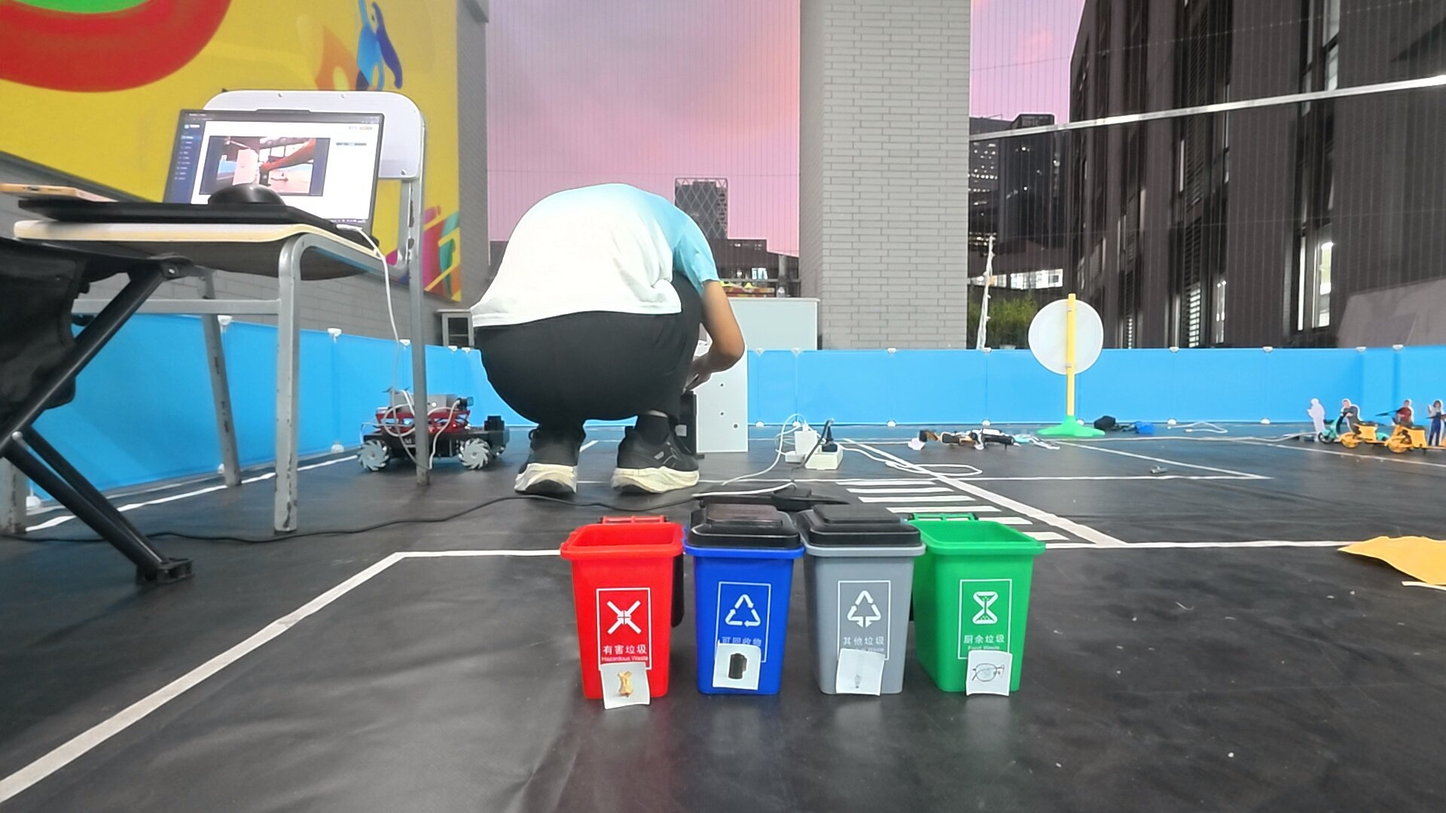food_trash: (601, 664, 652, 705)
hazardous_trash: (840, 646, 880, 695), (716, 643, 759, 688)
other_trash: (968, 652, 1008, 692)
